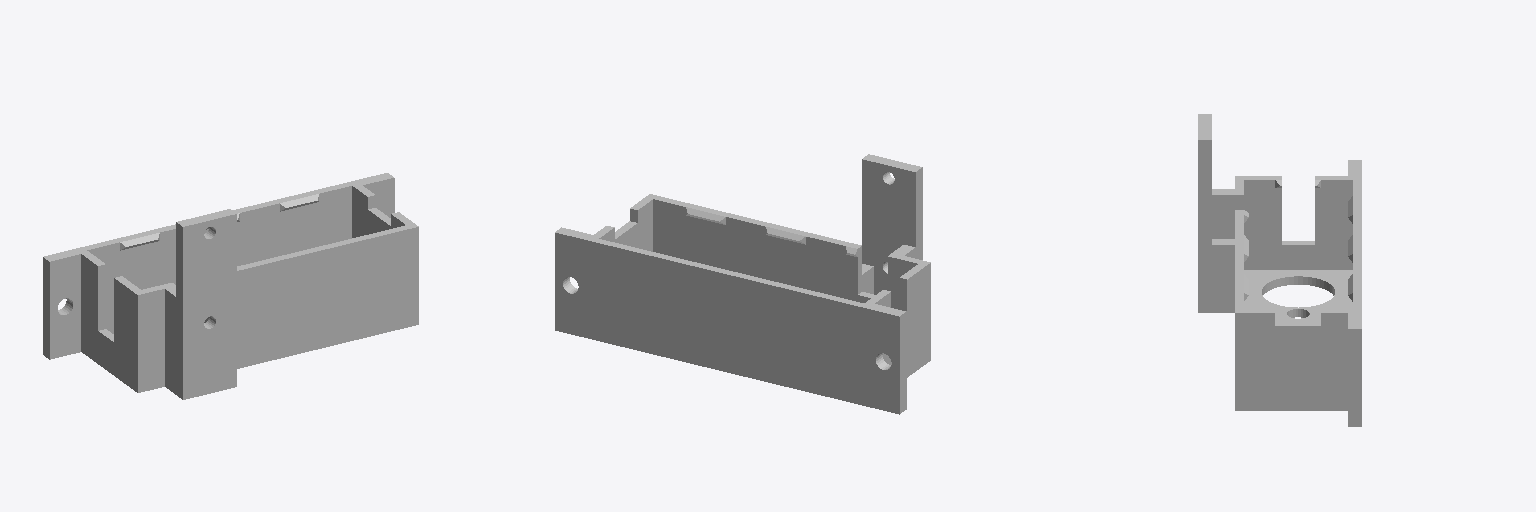
Rendered from motor_left_b.obj.
The picture shows the model from 3 angles: view 1: azimuth 30°, elevation 25°; view 2: azimuth 150°, elevation 25°; view 3: azimuth 270°, elevation 25°; orthographic projection.
Visible parts, largest first — view 1: Body1; view 2: Body1; view 3: Body1.
Boxes of the visible parts, box(x1,y1,x2,y2) form: Body1: box(43, 173, 418, 399); Body1: box(555, 154, 930, 414); Body1: box(1198, 114, 1361, 426).
Bounding box in the file's own units: 86.5 × 41.51 × 35.5.